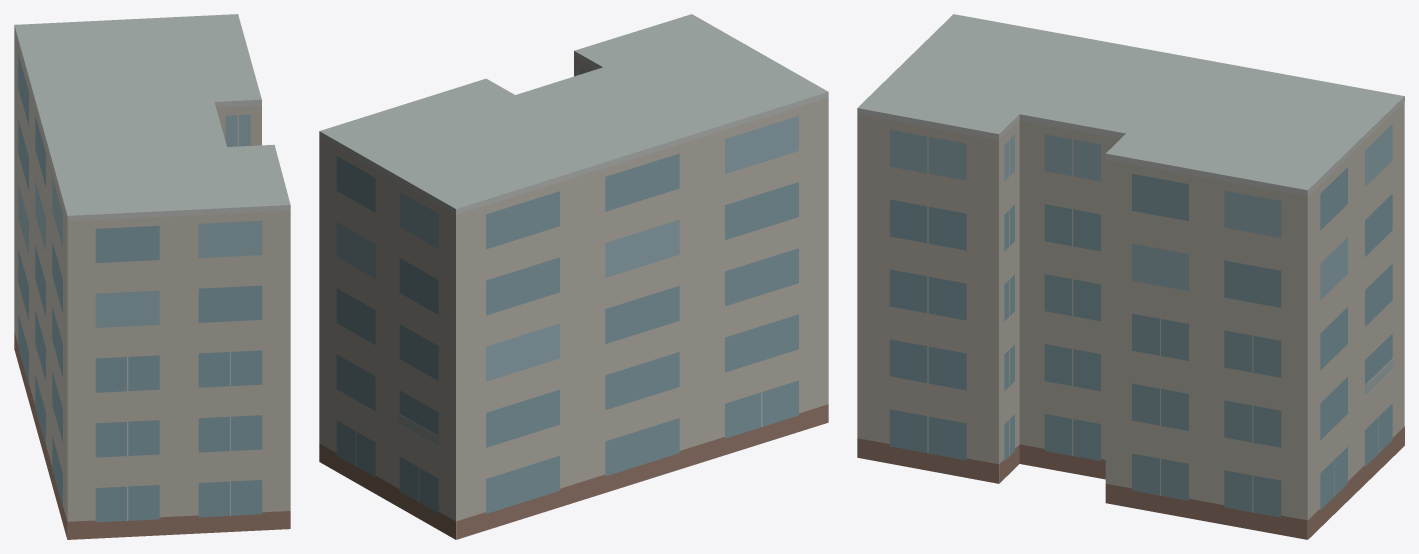
The model's file is survey-upis-32924548.glb.
The picture shows the model from 3 angles, left to right: view 1: azimuth 30°, elevation 25°; view 2: azimuth 150°, elevation 25°; view 3: azimuth 270°, elevation 25°; orthographic projection. The views are drawn at different scales.
Parts seen in each view (by area): view 1: survey-upis-32924548.tmp; view 2: survey-upis-32924548.tmp; view 3: survey-upis-32924548.tmp.
Boxes of the visible parts, left/top/right/bottom form: survey-upis-32924548.tmp: left=14, top=14, right=290, bottom=539; survey-upis-32924548.tmp: left=319, top=14, right=828, bottom=539; survey-upis-32924548.tmp: left=857, top=14, right=1404, bottom=539.
Bounding box in the file's own units: 15.37 × 14.2 × 20.16.
